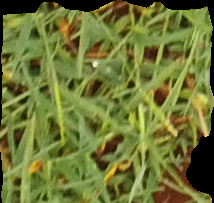grass: (1, 1, 213, 202)
